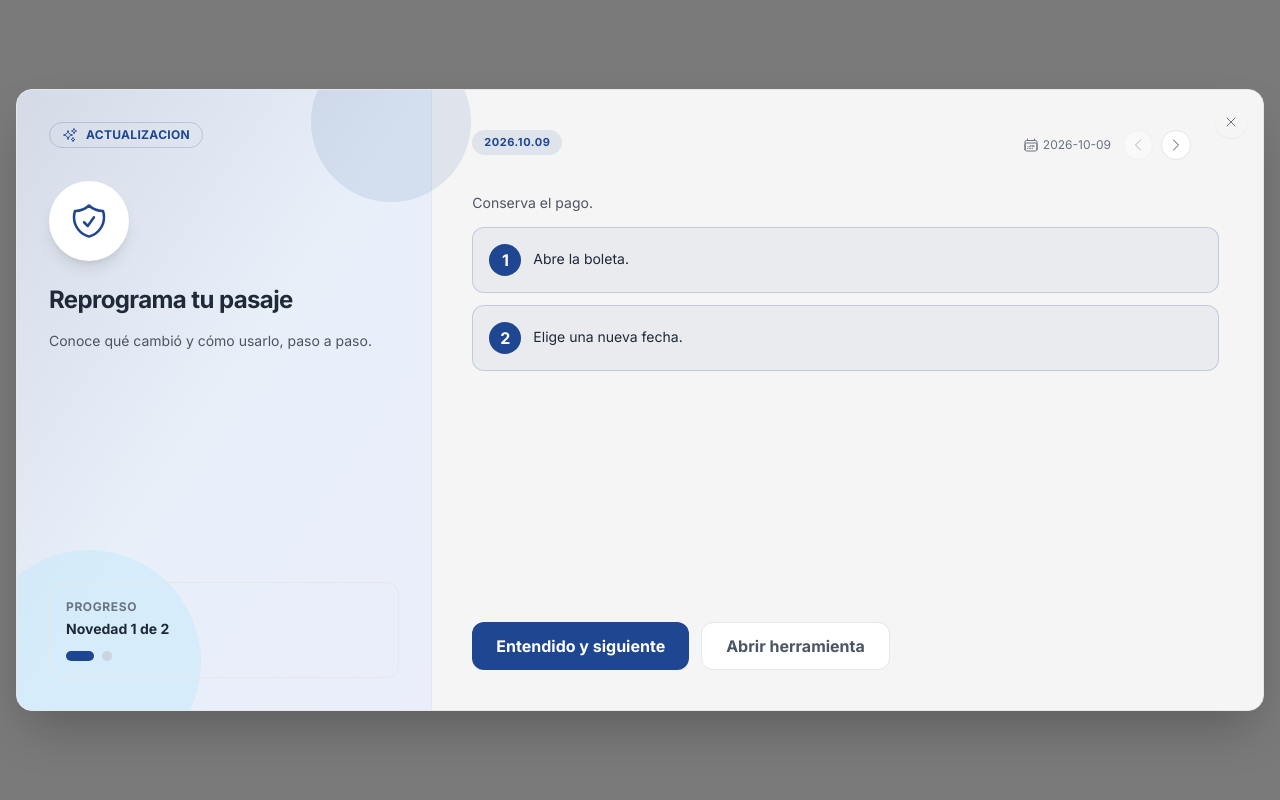
Test case: Novedades sin video › permite navegar por anuncios de texto y de video mezclados
This screenshot has width=1280, height=800.
Click the button named "Ir a la novedad 2": [107, 656] box [102,651,112,661]
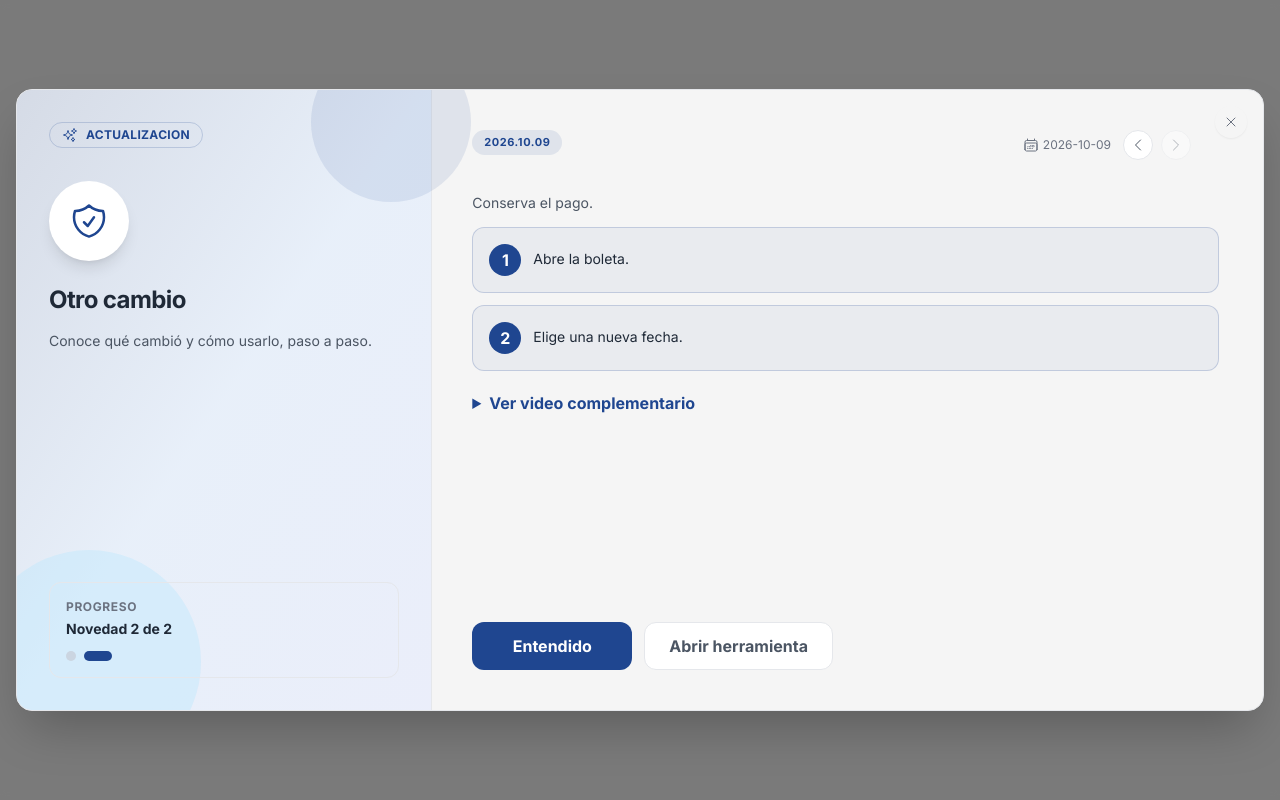
Result: the heading "Otro cambio" is shown at [49,285,186,314]
Result: the heading "Ver video complementario" is shown at [489,393,695,413]
